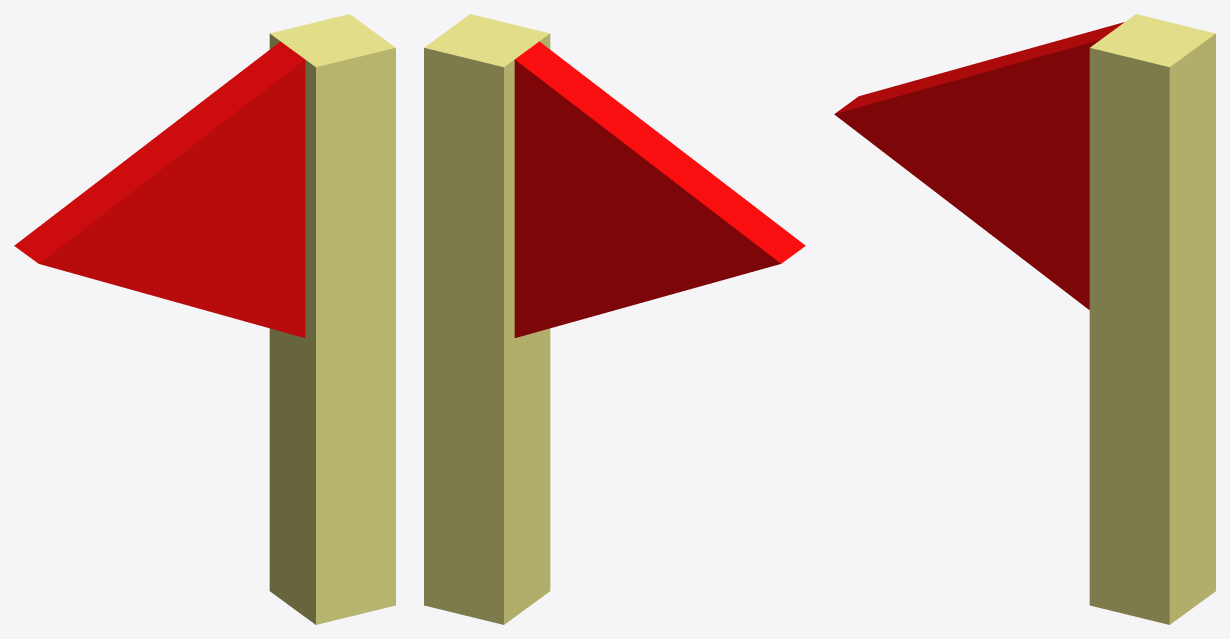
File: goalBlock.obj
3 renders of one model, left to right at view 1: azimuth 30°, elevation 25°; view 2: azimuth 150°, elevation 25°; view 3: azimuth 330°, elevation 25°, orthographic.
Parts seen in each view (by area): view 1: 立方体.002; view 2: 立方体.002; view 3: 立方体.002.
Boxes of the visible parts, x1,y1,x2,y2 form: 立方体.002: (14,14,395,624); 立方体.002: (424,14,805,624); 立方体.002: (834,14,1215,624).
Bounding box in the file's own units: 1.3 × 2 × 0.3.
1 material, 1 textured.
